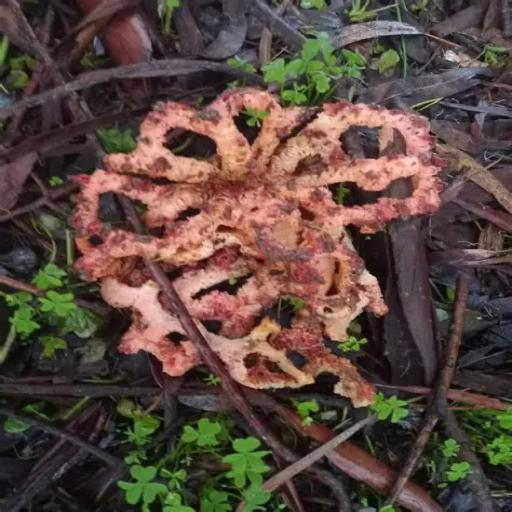Red Cage Fungus: (83, 82, 445, 423)
